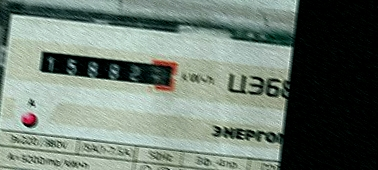1: (45, 53, 56, 70)
2: (128, 62, 140, 80)
5: (66, 55, 78, 72)
7: (150, 71, 160, 83)
8: (107, 60, 119, 78), (86, 59, 98, 76)
screen: (32, 40, 183, 95)
